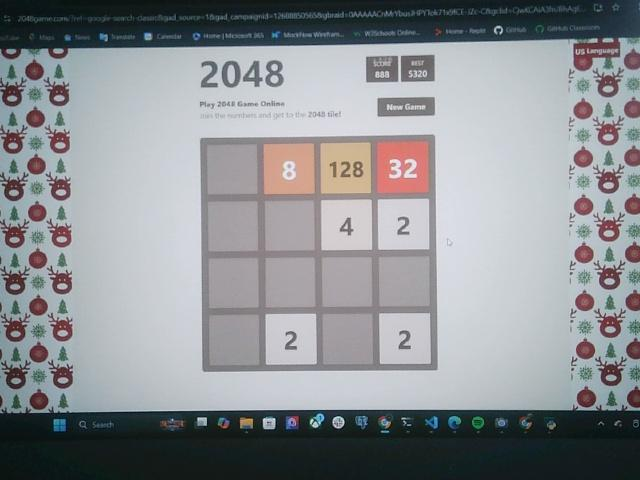board: (202, 137, 437, 371)
tile: (321, 199, 373, 251), (378, 199, 430, 251), (266, 314, 317, 366), (380, 313, 431, 365), (264, 143, 315, 194), (321, 143, 372, 194), (378, 142, 429, 193)
